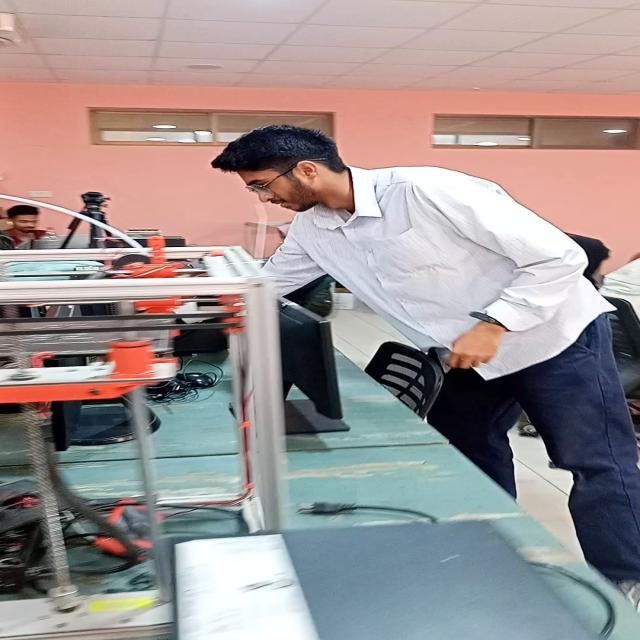dress: (203, 162, 640, 622)
glasses: (240, 168, 276, 198)
